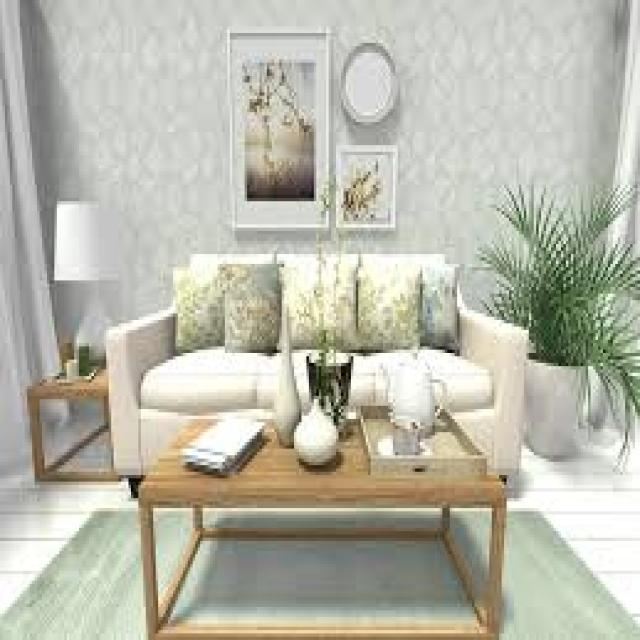Lamp: (50, 187, 113, 358)
Sofa: (104, 228, 531, 472)
Table: (138, 414, 515, 630)
